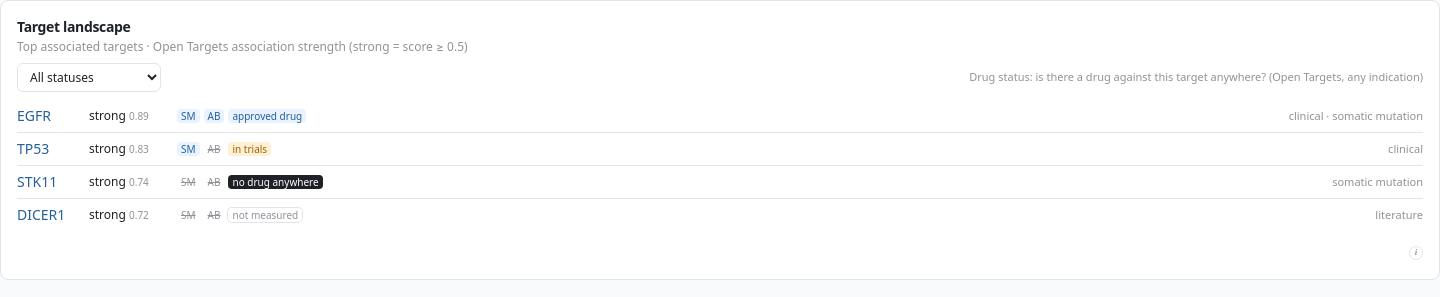
Test: TargetLandscapeCard › the status filter narrows to "unexploited only"
The width and height of the screenshot is (1440, 297).
Expected: the number of list items with test id "landscape-row" is 4, x1=17 y1=100 x2=1423 y2=133; x1=17 y1=133 x2=1423 y2=166; x1=17 y1=166 x2=1423 y2=199; x1=17 y1=205 x2=1423 y2=224
Select "No drug anywhere" in the dropdown with test id "landscape-filter-status" at (89,78), box x1=17 y1=63 x2=161 y2=92
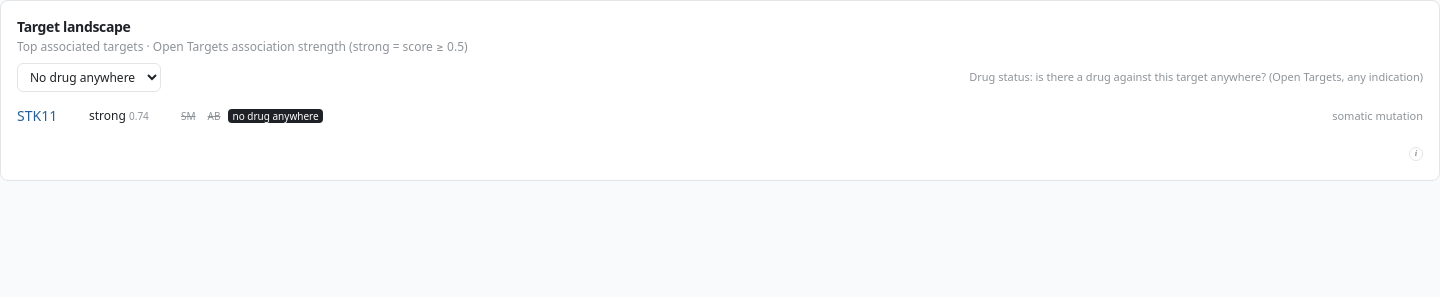
Expected: the link "STK11" is shown, x1=17 y1=106 x2=57 y2=125
Now the number of list items with test id "landscape-row" is 1, box x1=17 y1=106 x2=1423 y2=125
